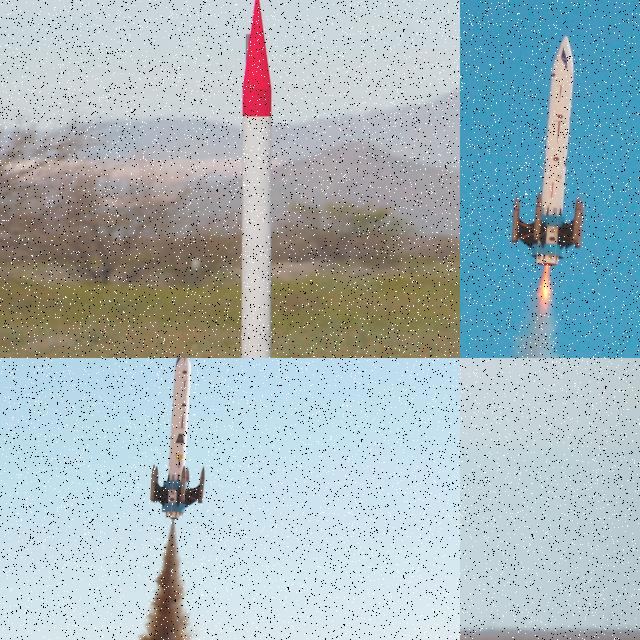Rocket: (187, 0, 311, 358), (512, 35, 587, 268), (146, 358, 207, 520)
